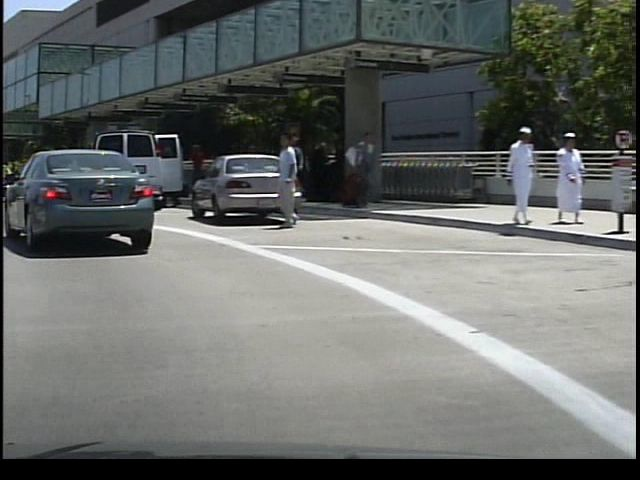person: (496, 123, 534, 229), (265, 128, 302, 232), (542, 129, 578, 221), (343, 127, 375, 212), (182, 139, 205, 204)
